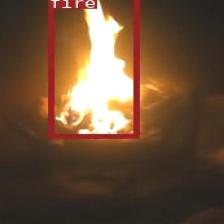fire: (47, 0, 138, 138)
